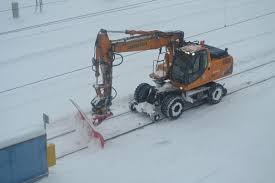excavator: (70, 26, 233, 120)
